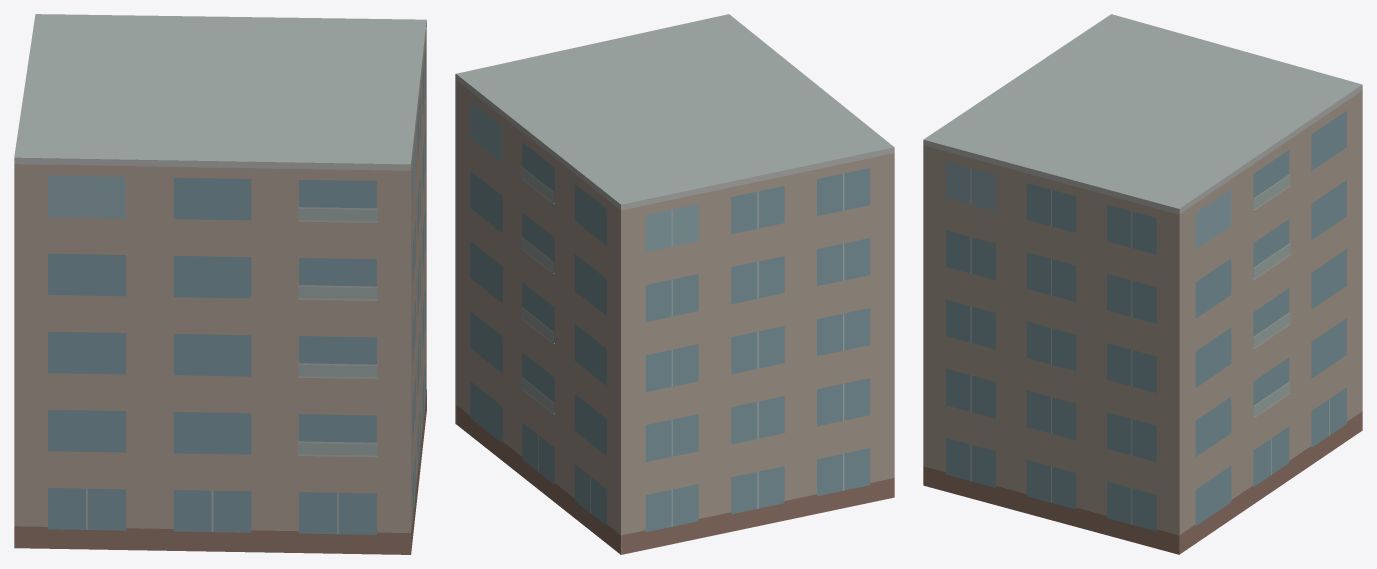
Rendered from survey-upis-32893505.glb.
3 renders of one model, left to right at view 1: azimuth 30°, elevation 25°; view 2: azimuth 150°, elevation 25°; view 3: azimuth 270°, elevation 25°, orthographic. The views are drawn at different scales.
Visible parts, largest first — view 1: survey-upis-32893505.tmp; view 2: survey-upis-32893505.tmp; view 3: survey-upis-32893505.tmp.
Boxes of the visible parts, left/top/right/bottom form: survey-upis-32893505.tmp: left=14, top=14, right=426, bottom=554; survey-upis-32893505.tmp: left=455, top=14, right=894, bottom=554; survey-upis-32893505.tmp: left=923, top=14, right=1362, bottom=554.
Size of the model in its own units: 18.03 by 14.9 by 17.16.
